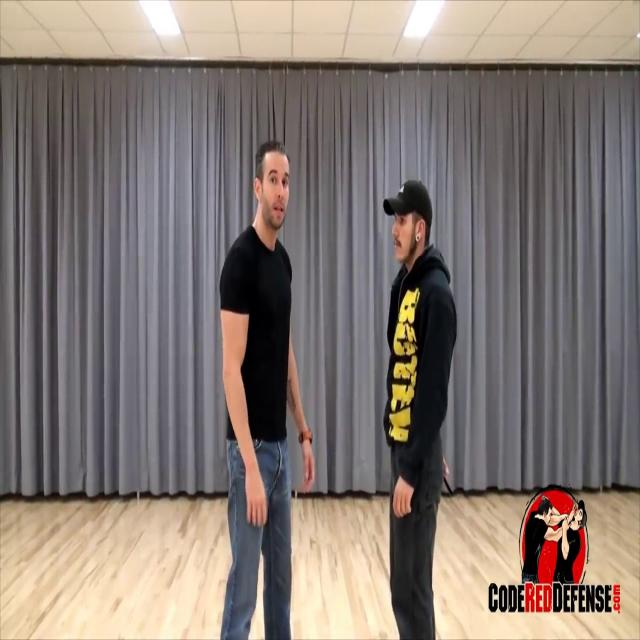Knife_Handle: (442, 452, 454, 499)
